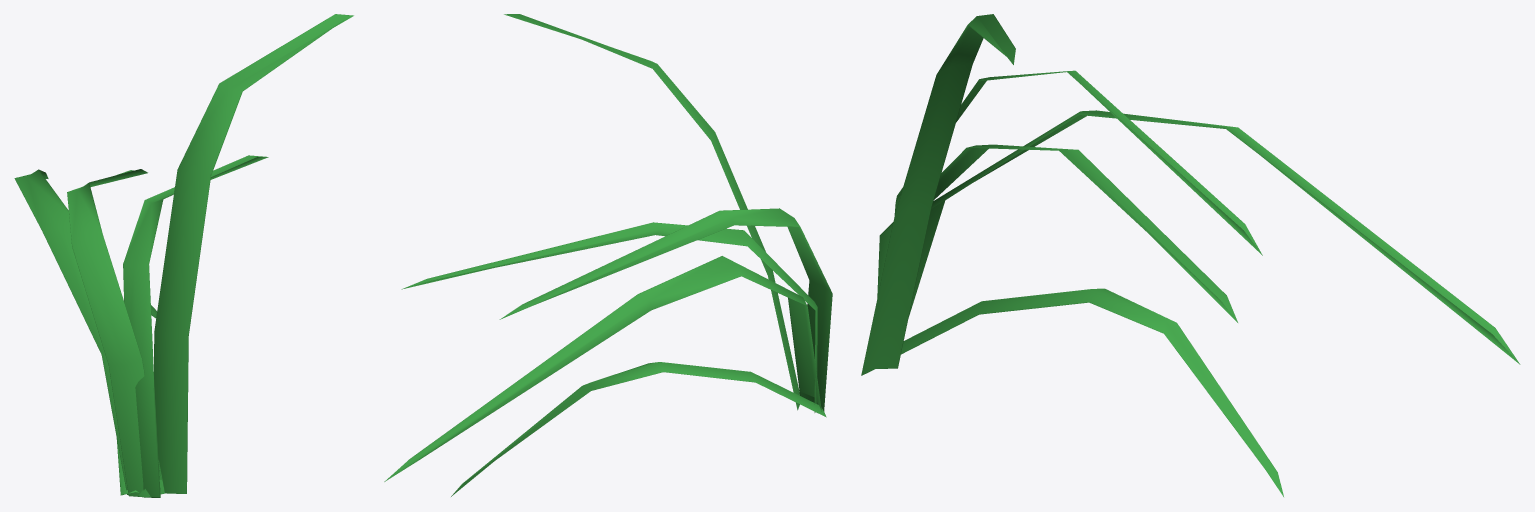
Rendered from SM_HerbeBrin1.fbx.
3 renders of one model, left to right at view 1: azimuth 30°, elevation 25°; view 2: azimuth 150°, elevation 25°; view 3: azimuth 270°, elevation 25°, orthographic. The views are drawn at different scales.
Visible parts, largest first — view 1: SM_Herbe_03; view 2: SM_Herbe_03; view 3: SM_Herbe_03.
Boxes of the visible parts, left/top/right/bottom form: SM_Herbe_03: left=14, top=14, right=353, bottom=497; SM_Herbe_03: left=384, top=14, right=832, bottom=496; SM_Herbe_03: left=861, top=14, right=1520, bottom=496.
Size of the model in its own units: 5.04 by 8.04 by 6.37.
1 material, 1 textured.
